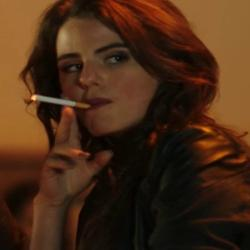smoking: (29, 92, 114, 113)
